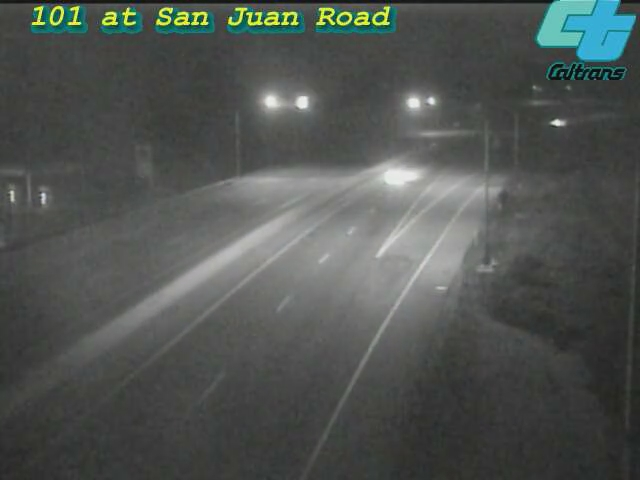vehicle: (353, 138, 433, 218), (534, 97, 584, 147)
